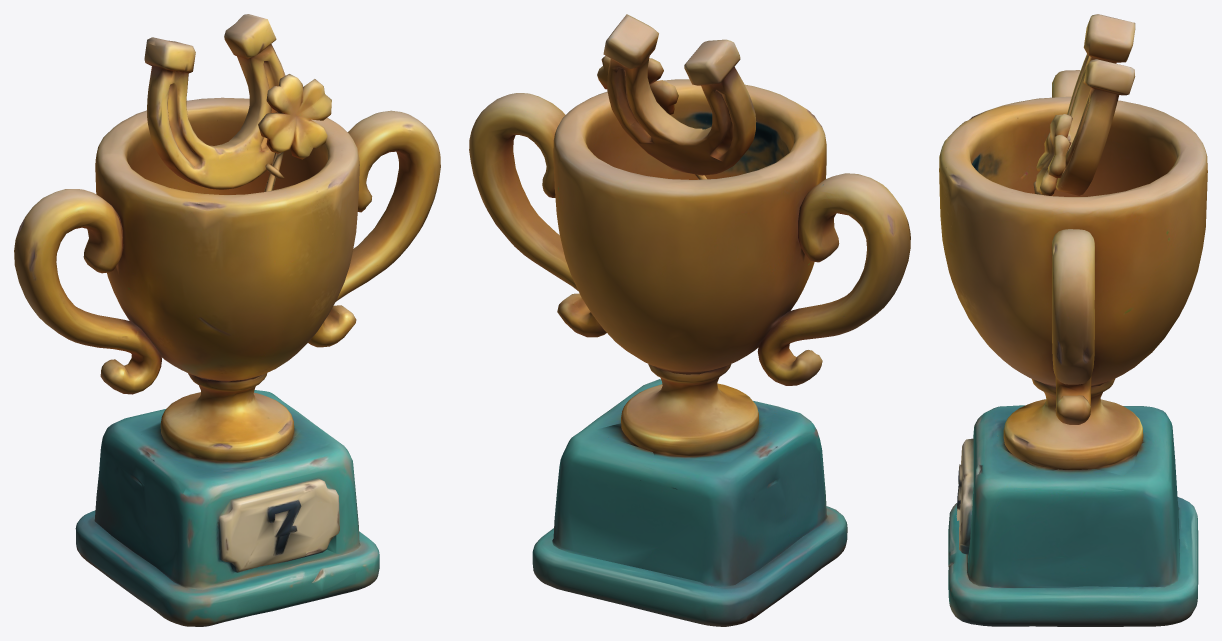
Rendered from trophy.glb.
The picture shows the model from 3 angles, left to right: view 1: azimuth 30°, elevation 25°; view 2: azimuth 150°, elevation 25°; view 3: azimuth 270°, elevation 25°; orthographic projection. The views are drawn at different scales.
Visible parts, largest first — view 1: tripo_part_0, tripo_part_5, tripo_part_3, tripo_part_4, tripo_part_2, tripo_part_1, tripo_part_6, tripo_part_8, tripo_part_7; view 2: tripo_part_0, tripo_part_5, tripo_part_3, tripo_part_4, tripo_part_2, tripo_part_1, tripo_part_6, tripo_part_7; view 3: tripo_part_0, tripo_part_5, tripo_part_2, tripo_part_6, tripo_part_1, tripo_part_4, tripo_part_7, tripo_part_8, tripo_part_3.
Part boxes in pixels (x1,y1,x2,y2): tripo_part_0: (95, 97, 359, 382); tripo_part_5: (94, 390, 360, 590); tripo_part_3: (14, 189, 161, 394); tripo_part_4: (144, 14, 285, 189); tripo_part_2: (75, 510, 379, 626); tripo_part_1: (308, 110, 440, 347); tripo_part_6: (138, 373, 301, 473); tripo_part_8: (218, 478, 339, 572); tripo_part_7: (258, 74, 331, 191); tripo_part_0: (553, 79, 826, 374); tripo_part_5: (552, 379, 827, 587); tripo_part_3: (757, 173, 910, 385); tripo_part_4: (603, 14, 756, 175); tripo_part_2: (532, 506, 847, 626); tripo_part_1: (469, 93, 606, 337); tripo_part_6: (595, 364, 774, 462); tripo_part_7: (597, 55, 706, 179); tripo_part_0: (939, 96, 1207, 387); tripo_part_5: (967, 405, 1180, 587); tripo_part_2: (948, 497, 1198, 626); tripo_part_6: (995, 379, 1150, 475); tripo_part_1: (1052, 229, 1094, 424); tripo_part_4: (1056, 14, 1135, 195); tripo_part_7: (1033, 114, 1072, 195); tripo_part_8: (956, 438, 973, 562); tripo_part_3: (1052, 70, 1080, 97).
Bounding box in the file's own units: 0.8082 × 0.9788 × 0.4406.
Materials: 1 (1 with a texture image).
